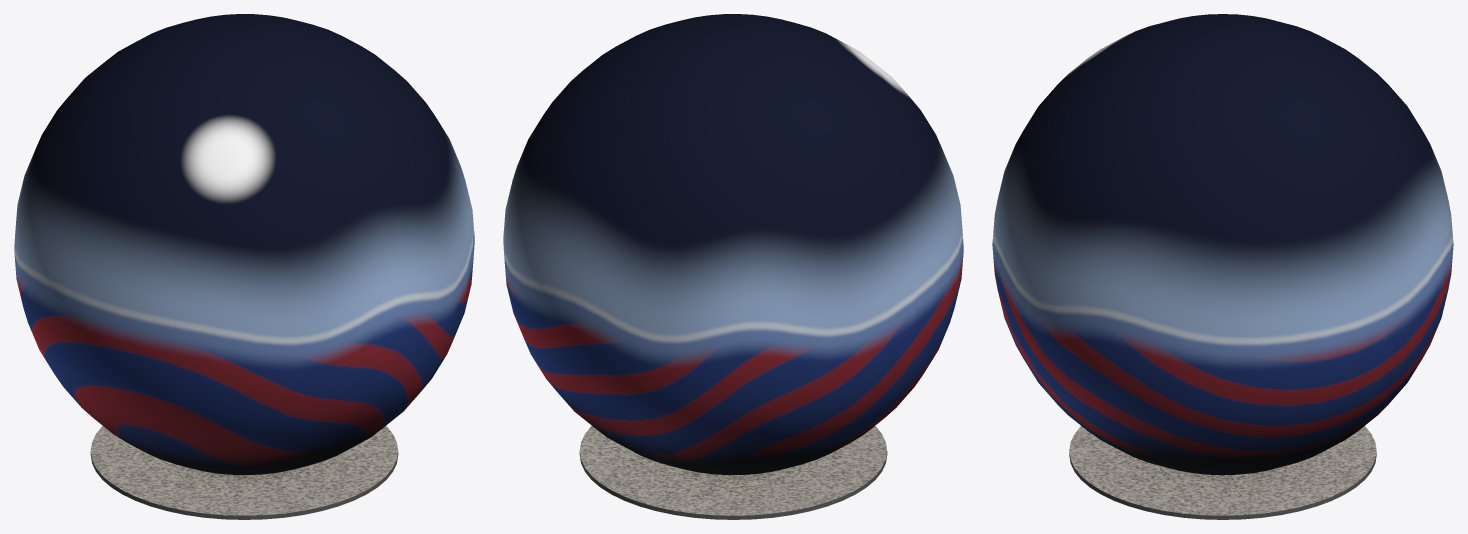
Rendered from chrome_orb.fbx.
The picture shows the model from 3 angles, left to right: view 1: azimuth 30°, elevation 25°; view 2: azimuth 150°, elevation 25°; view 3: azimuth 270°, elevation 25°; orthographic projection.
Visible parts, largest first — view 1: Body; view 2: Body; view 3: Body.
Boxes of the visible parts, <box> form: Body: <box>14,14,474,519</box>; Body: <box>503,14,963,519</box>; Body: <box>992,14,1453,519</box>.
Bounding box in the file's own units: 30 × 30.1 × 30.
Materials: 1 (1 with a texture image).
